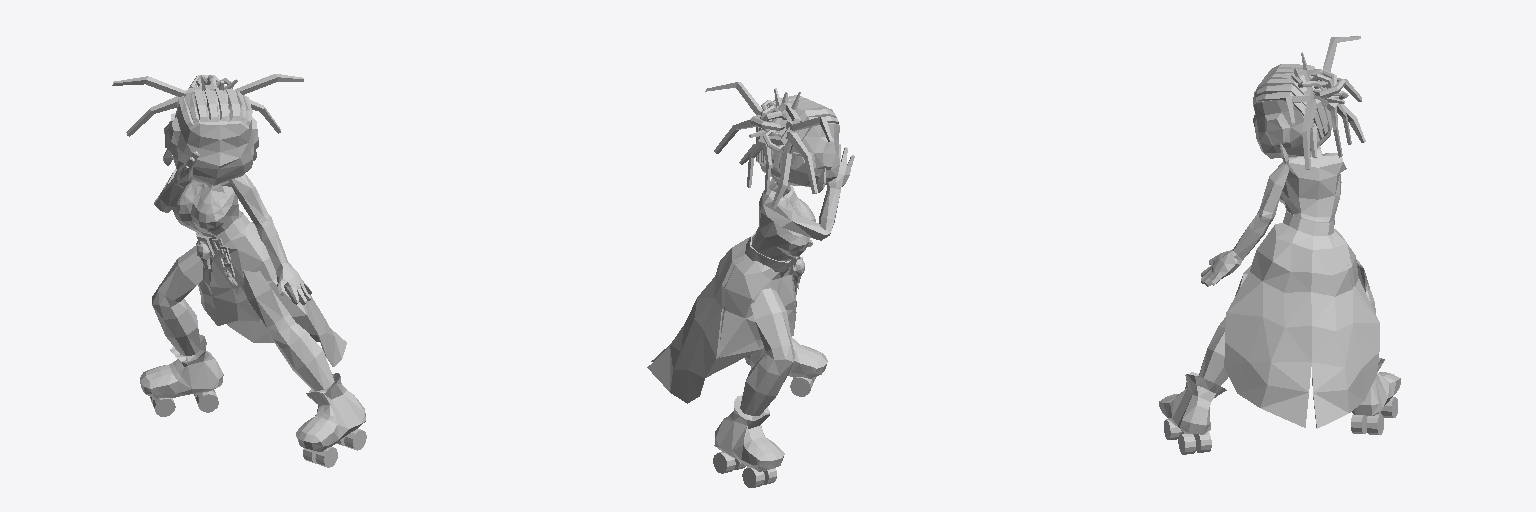
The model's file is bruja_000066.obj.
The picture shows the model from 3 angles: view 1: azimuth 30°, elevation 25°; view 2: azimuth 150°, elevation 25°; view 3: azimuth 270°, elevation 25°; orthographic projection.
Parts seen in each view (by area): view 1: Bruja_Plane.001; view 2: Bruja_Plane.001; view 3: Bruja_Plane.001.
Part boxes in pixels (x1,y1,x2,y2): Bruja_Plane.001: (112,74,366,467); Bruja_Plane.001: (647,82,854,487); Bruja_Plane.001: (1159,36,1400,454).
Bounding box in the file's own units: 9.19 × 15.42 × 9.25.